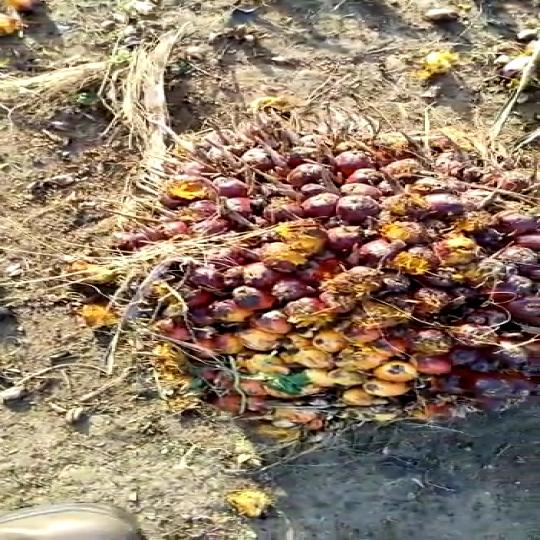masak: (117, 105, 540, 463)
